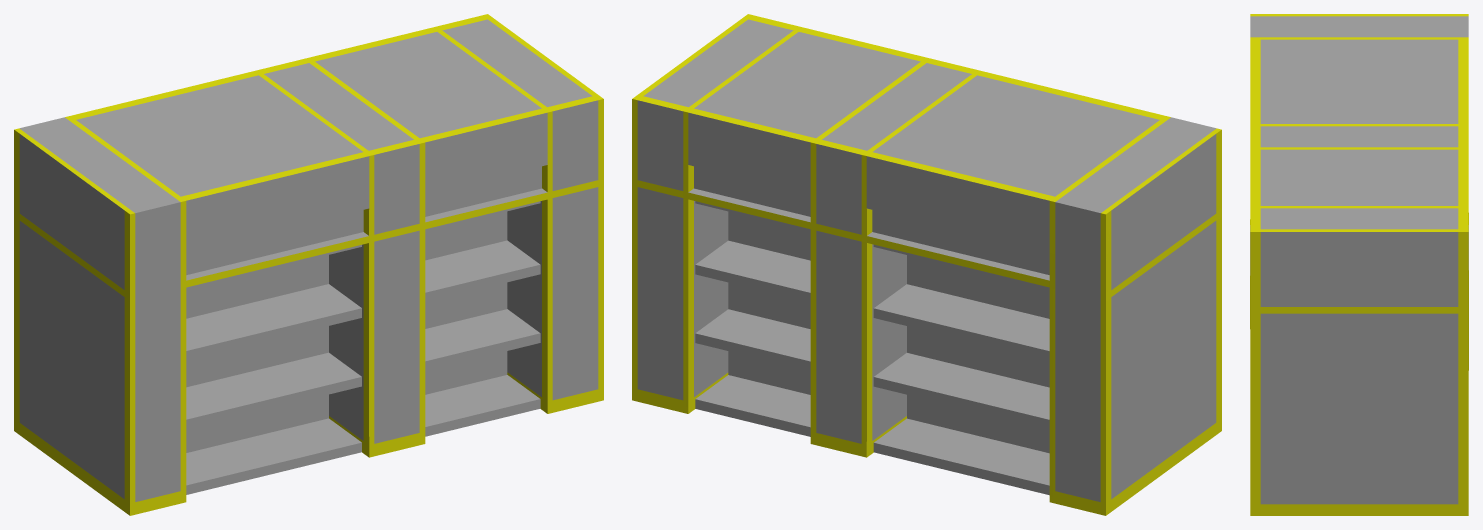
File: storage_shelf.fbx
The picture shows the model from 3 angles, left to right: view 1: azimuth 30°, elevation 25°; view 2: azimuth 150°, elevation 25°; view 3: azimuth 270°, elevation 25°; orthographic projection. The views are drawn at different scales.
Parts seen in each view (by area): view 1: shelf_001; view 2: shelf_001; view 3: shelf_001.
Boxes of the visible parts, <box> form: shelf_001: <box>14,14,603,515</box>; shelf_001: <box>632,14,1221,515</box>; shelf_001: <box>1250,14,1468,515</box>.
Bounding box in the file's own units: 30.78 × 18.72 × 13.06.
